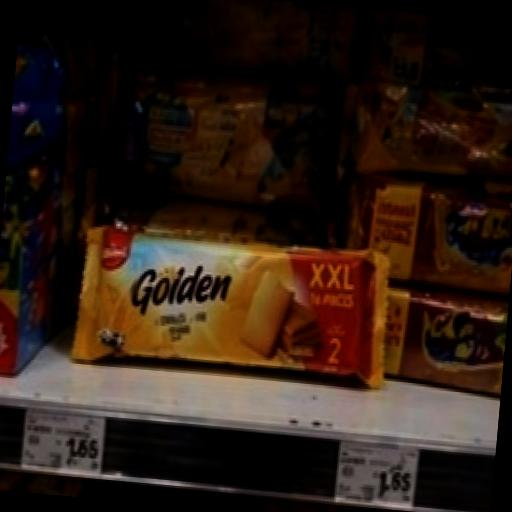golden: (38, 164, 439, 460)
